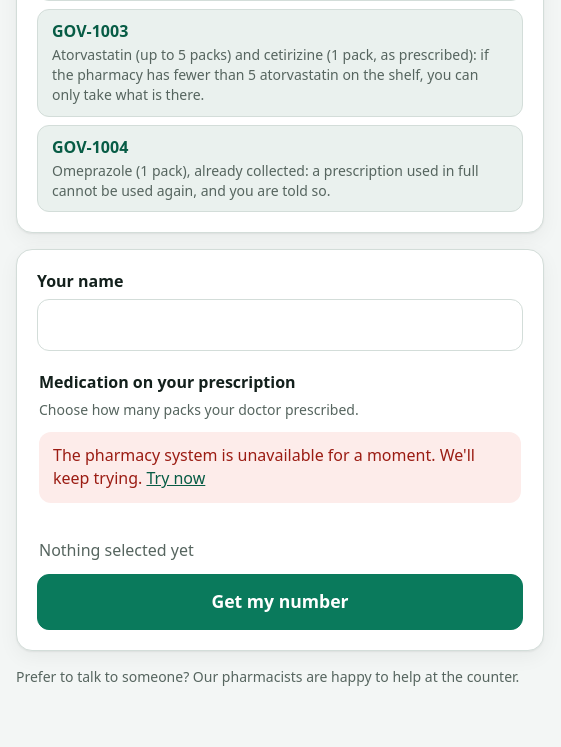
it: check-in by hand › says so when the medication cannot be loaded, and loads it when asked to try again
The image size is (561, 747).
(page scrolled)
expect the message shows "The pharmacy system is unavailable for a moment. We'll keep trying.": met, box [53,444,475,490]
Click the button "Try now" at {"x": 176, "y": 479}, box [146,468,205,491]
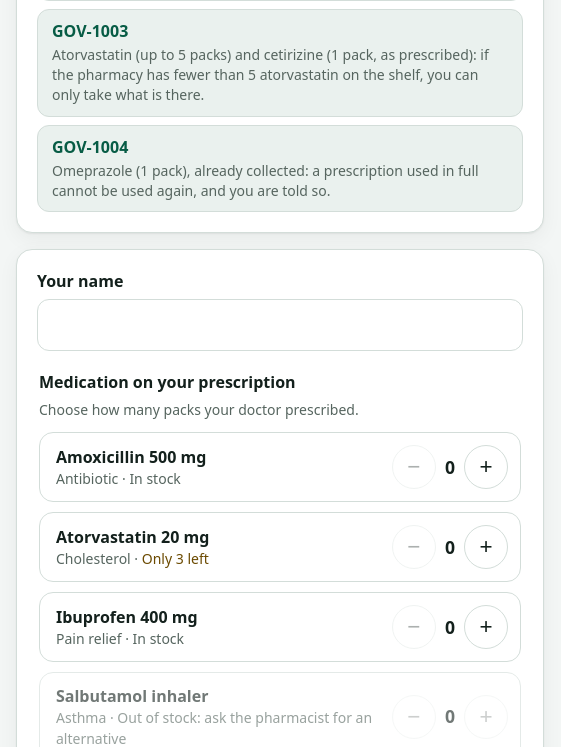
expect the text "Amoxicillin 500 mg" is shown: met, box [56,446,206,468]
expect the message "The pharmacy system is unavailable for a moment. We'll keep trying. Try now" is gone: met
